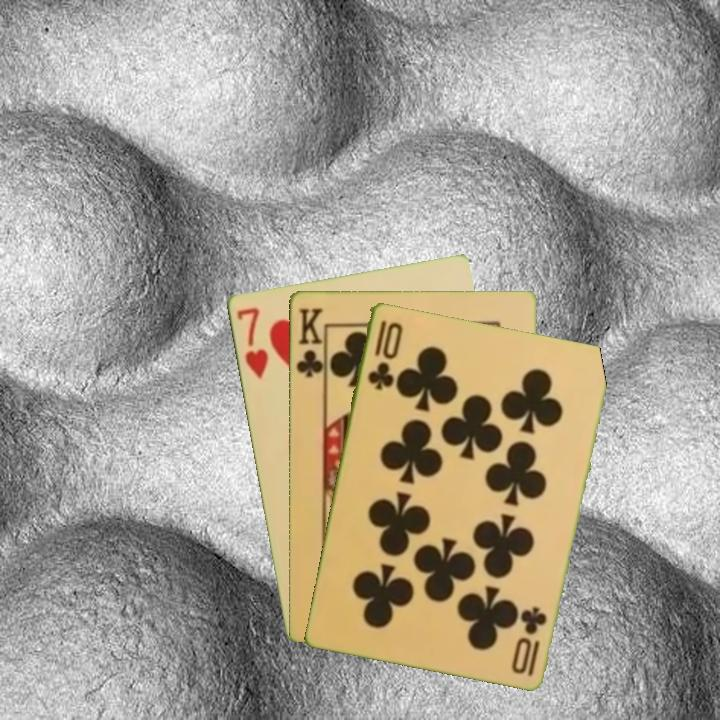10c: (363, 316, 405, 393), (520, 602, 550, 679)
7h: (232, 303, 271, 382)
Kc: (293, 304, 327, 384)
